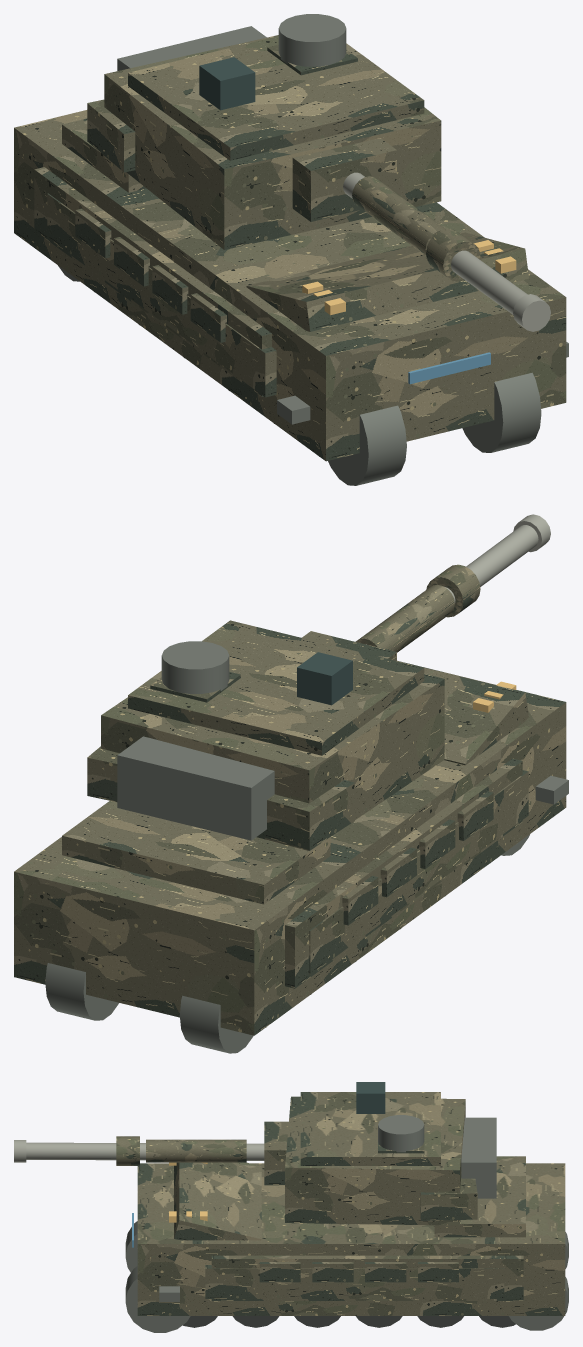
Rendered from m1a2-abrams.glb.
3 views of the same model, one above another, from view 1: azimuth 30°, elevation 25°; view 2: azimuth 150°, elevation 25°; view 3: azimuth 270°, elevation 25° (orthographic). The views are drawn at different scales.
Visible parts, largest first — view 1: Armored hull / cast steel, Abrams angular turret, Turret roof plate, Sloped glacis plate, Drive sprocket (×2), Side skirt / modular armor, Abrams side armor package, Gun mantlet, Side reactive armor tile (×4), Commander weapon station, Thermal sleeve, CITV optic (+9 smaller); view 2: Armored hull / cast steel, Turret roof plate, Abrams angular turret, Rear engine deck, Rear storage basket, Side skirt / modular armor, Abrams side armor package, Turret bustle rack (×2), Sloped glacis plate, Idler wheel (×2), Side reactive armor tile (×4), Commander weapon station (+6 smaller); view 3: Armored hull / cast steel, Abrams angular turret, Turret roof plate, Side skirt / modular armor, Sloped glacis plate, Abrams side armor package, Rear engine deck, Side reactive armor tile (×4), Rear storage basket, Thermal sleeve, 120 mm smoothbore, Turret bustle rack (+8 smaller).
Part boxes in pixels (x1=…): Armored hull / cast steel: x1=14, y1=110, x2=566, y2=461; Abrams angular turret: x1=104, y1=35, x2=441, y2=249; Turret roof plate: x1=128, y1=36, x2=424, y2=160; Sloped glacis plate: x1=246, y1=232, x2=528, y2=331; Drive sprocket (×2): x1=328, y1=372, x2=541, y2=485; Side skirt / modular armor: x1=47, y1=193, x2=276, y2=397; Abrams side armor package: x1=34, y1=167, x2=271, y2=396; Gun mantlet: x1=292, y1=138, x2=396, y2=221; Side reactive armor tile (×4): x1=75, y1=208, x2=226, y2=342; Commander weapon station: x1=278, y1=14, x2=346, y2=66; Thermal sleeve: x1=352, y1=176, x2=445, y2=255; CITV optic: x1=199, y1=57, x2=255, y2=110; Armored hull / cast steel: x1=14, y1=660, x2=566, y2=1035; Turret roof plate: x1=128, y1=620, x2=424, y2=755; Abrams angular turret: x1=101, y1=673, x2=444, y2=850; Rear engine deck: x1=62, y1=801, x2=330, y2=904; Rear storage basket: x1=117, y1=736, x2=274, y2=840; Side skirt / modular armor: x1=309, y1=770, x2=528, y2=975; Abrams side armor package: x1=285, y1=758, x2=522, y2=988; Turret bustle rack (×2): x1=87, y1=746, x2=354, y2=849; Sloped glacis plate: x1=424, y1=668, x2=528, y2=765; Idler wheel (×2): x1=45, y1=963, x2=253, y2=1053; Side reactive armor tile (×4): x1=342, y1=791, x2=493, y2=925; Commander weapon station: x1=161, y1=641, x2=229, y2=693; Armored hull / cast steel: x1=137, y1=1163, x2=565, y2=1315; Abrams angular turret: x1=285, y1=1096, x2=465, y2=1225; Turret roof plate: x1=300, y1=1092, x2=440, y2=1165; Side skirt / modular armor: x1=205, y1=1265, x2=504, y2=1298; Sloped glacis plate: x1=174, y1=1162, x2=261, y2=1240; Abrams side armor package: x1=211, y1=1255, x2=523, y2=1300; Rear engine deck: x1=434, y1=1156, x2=525, y2=1237; Side reactive armor tile (×4): x1=259, y1=1262, x2=458, y2=1282; Rear storage basket: x1=461, y1=1117, x2=496, y2=1198; Thermal sleeve: x1=146, y1=1139, x2=246, y2=1162; 120 mm smoothbore: x1=26, y1=1142, x2=264, y2=1160; Turret bustle rack: x1=420, y1=1178, x2=477, y2=1220.
Bounding box in the file's own units: 3.41 × 3.43 × 8.63.
7 materials, 1 textured.
